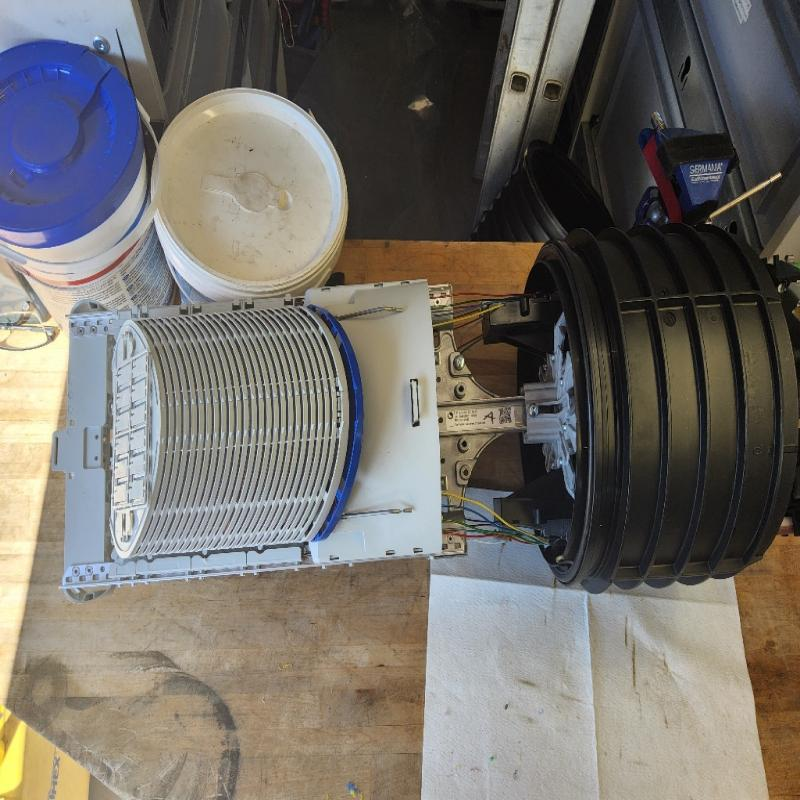NT-Muffen: (58, 220, 800, 592)
